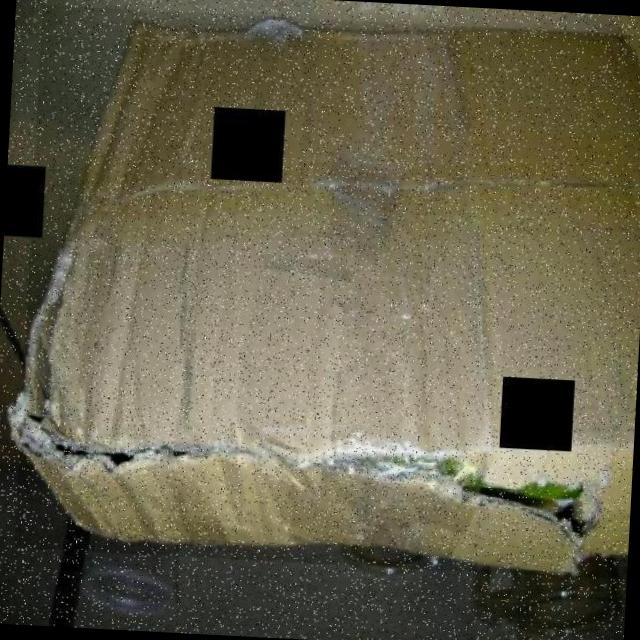box: (13, 5, 640, 580)
